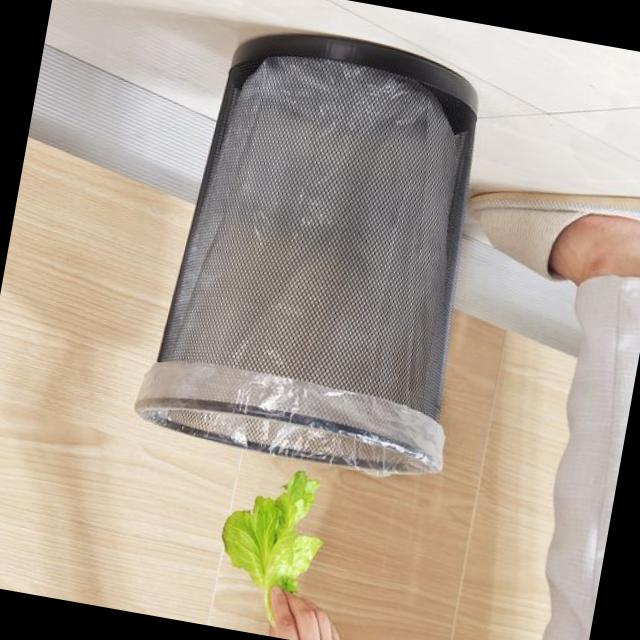dustbin: (127, 8, 519, 489)
